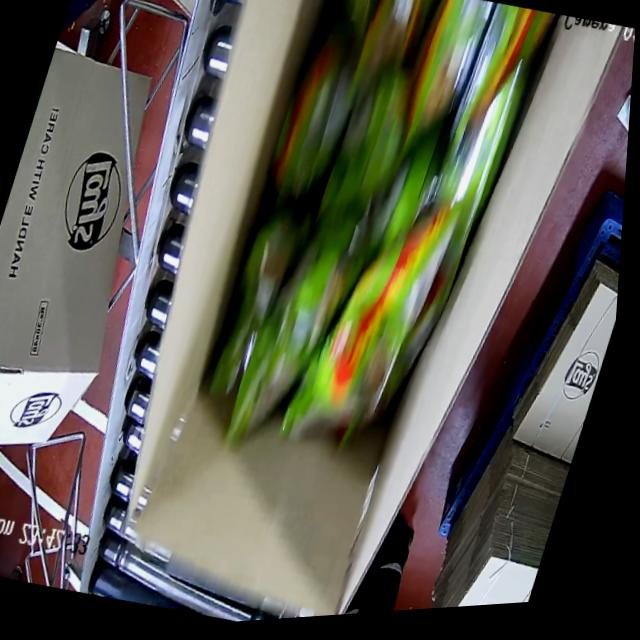YOGURT_HERB: (172, 0, 556, 493)
